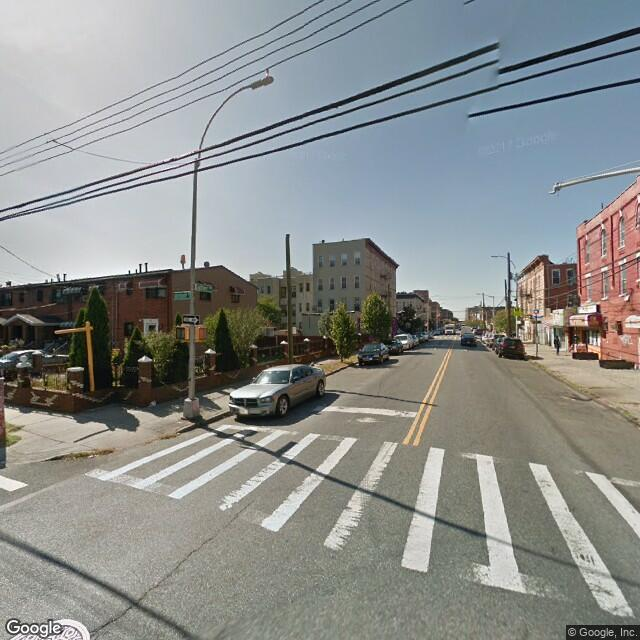litter: (147, 401, 161, 409), (86, 454, 97, 463)
